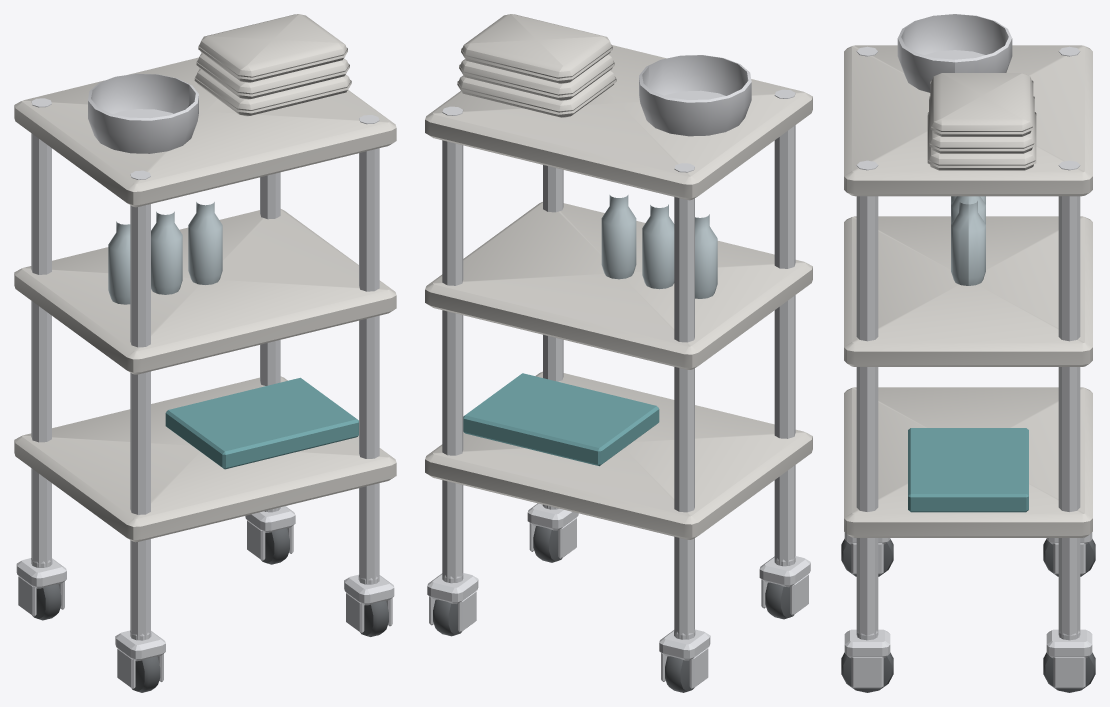
Rendered from skin.glb.
3 renders of one model, left to right at view 1: azimuth 30°, elevation 25°; view 2: azimuth 150°, elevation 25°; view 3: azimuth 270°, elevation 25°, orthographic. The views are drawn at different scales.
Parts seen in each view (by area): view 1: treatment-trolley, castor-lf (×2), castor-lb (×2), castor-rf (×2), castor-rb (×2); view 2: treatment-trolley, castor-lf (×2), castor-lb (×2), castor-rb (×2), castor-rf (×2); view 3: treatment-trolley, castor-rb (×2), castor-rf (×2), castor-lb (×2), castor-lf (×2).
Part boxes in pixels (x1,y1,x2,y2): treatment-trolley: (14,14,396,639); castor-lf (×2): (115,630,165,692); castor-lb (×2): (16,558,66,620); castor-rf (×2): (344,574,394,636); castor-rb (×2): (245,506,295,564); treatment-trolley: (425,14,812,638); castor-lf (×2): (759,556,810,619); castor-lb (×2): (659,629,710,692); castor-rb (×2): (427,573,478,636); castor-rf (×2): (527,503,578,562); treatment-trolley: (844,14,1092,638); castor-rb (×2): (1043,629,1095,692); castor-rf (×2): (841,629,893,692); castor-lb (×2): (1043,532,1095,576); castor-lf (×2): (841,532,893,576).
Size of the model in its own units: 0.47 by 0.942 by 0.378.
